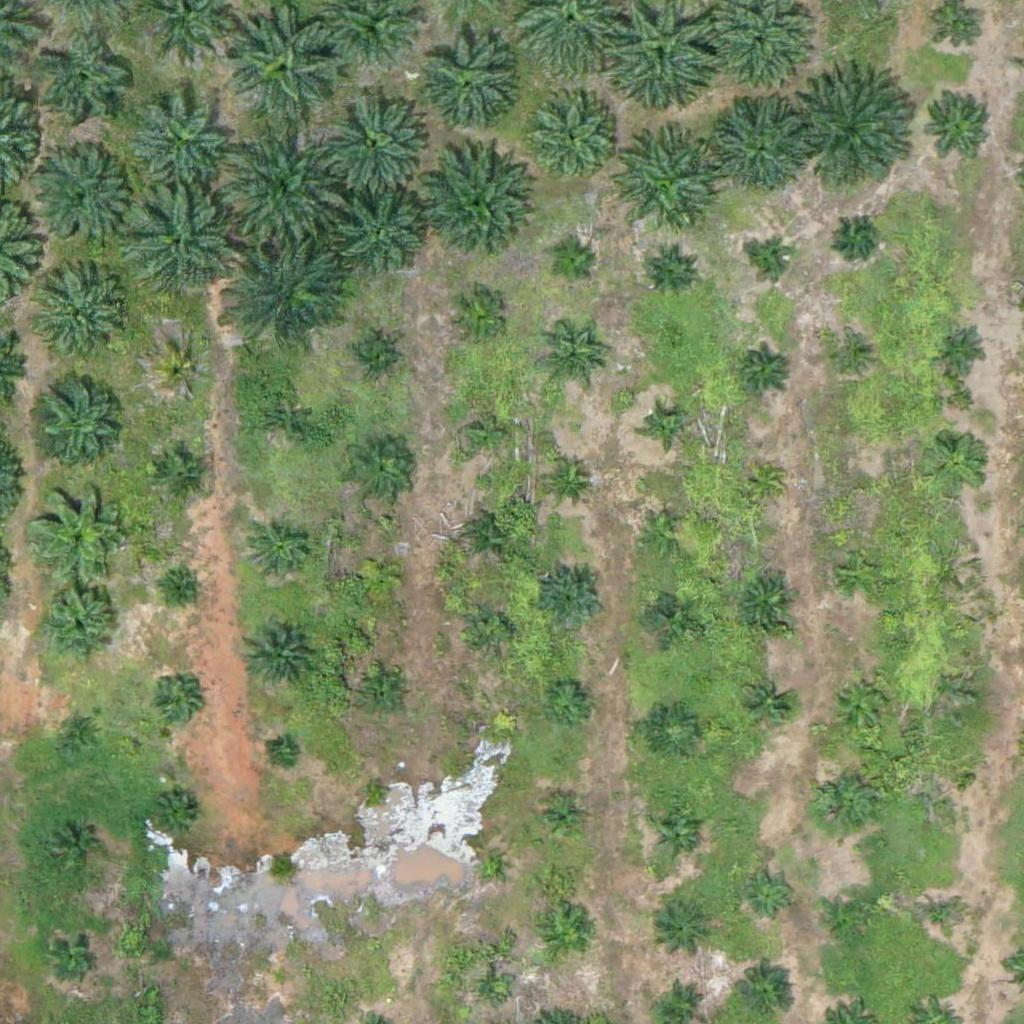Kelapa_Sawit: (219, 120, 344, 246), (227, 231, 352, 357), (797, 70, 922, 195), (418, 151, 531, 265), (127, 189, 240, 302), (319, 81, 431, 195), (229, 1, 341, 115), (607, 133, 719, 246), (708, 94, 808, 195), (522, 88, 622, 189), (131, 90, 231, 191), (35, 36, 135, 137), (30, 145, 130, 246), (28, 480, 128, 581), (415, 33, 515, 133), (41, 274, 129, 363), (35, 581, 123, 669), (337, 192, 425, 280), (35, 370, 122, 458), (241, 617, 316, 693), (921, 86, 996, 161), (654, 898, 717, 961), (539, 331, 602, 394), (445, 285, 508, 348), (812, 769, 875, 832), (541, 567, 604, 630), (456, 402, 519, 465), (349, 440, 411, 503), (249, 519, 311, 582), (736, 571, 798, 634), (830, 672, 892, 735), (926, 432, 988, 495), (253, 389, 315, 452), (648, 706, 698, 757), (646, 588, 696, 639), (466, 510, 516, 561), (935, 3, 985, 54), (542, 453, 592, 504), (467, 604, 517, 655), (346, 331, 396, 382), (355, 550, 405, 601), (543, 677, 593, 728), (741, 677, 791, 728), (915, 892, 965, 943), (827, 890, 877, 941), (745, 867, 795, 918), (653, 809, 703, 860), (156, 448, 206, 498), (646, 246, 696, 296), (542, 911, 592, 961), (740, 344, 790, 394), (936, 323, 986, 373), (836, 548, 886, 598), (639, 508, 689, 558), (547, 241, 597, 291), (361, 671, 411, 721), (538, 794, 588, 844), (150, 677, 200, 727), (153, 791, 203, 841), (50, 930, 100, 980), (50, 823, 100, 873), (57, 709, 107, 759), (157, 348, 207, 398), (837, 216, 875, 254), (745, 462, 783, 500), (648, 407, 686, 445), (754, 242, 791, 280), (831, 340, 868, 378), (843, 469, 880, 507), (926, 767, 963, 805), (270, 740, 295, 766), (475, 851, 500, 876), (480, 979, 505, 1004), (363, 778, 388, 803), (171, 576, 196, 601), (269, 967, 294, 992)
